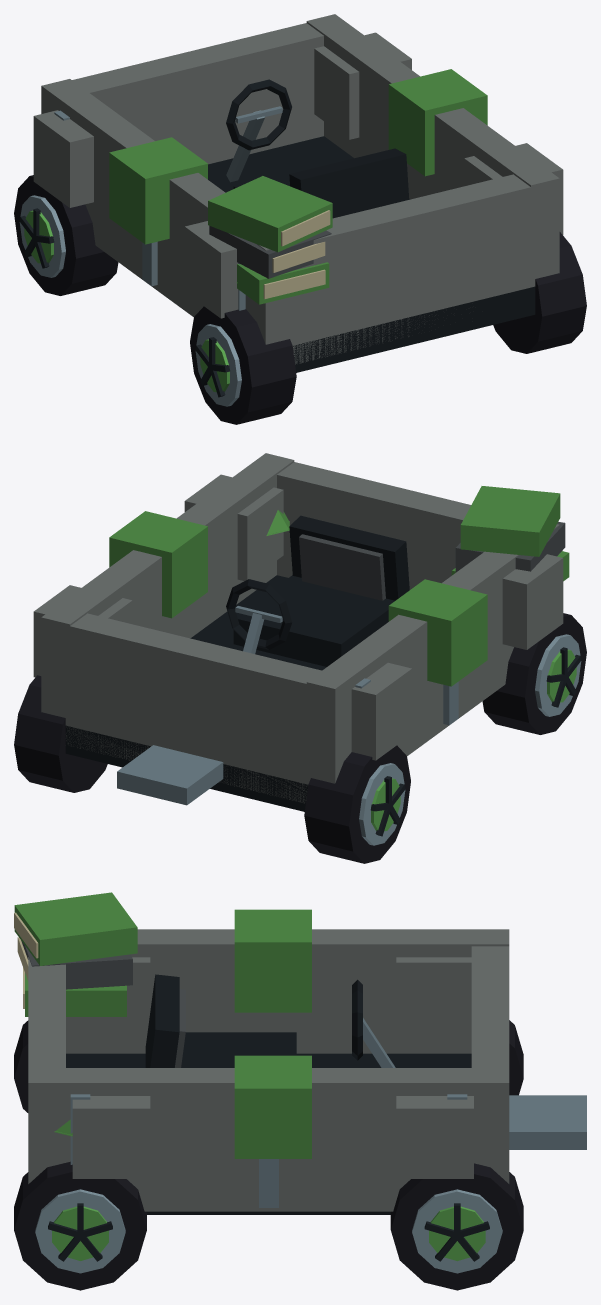
File: kart.glb
The picture shows the model from 3 angles, top to bottom: view 1: azimuth 30°, elevation 25°; view 2: azimuth 150°, elevation 25°; view 3: azimuth 270°, elevation 25°; orthographic projection. The views are drawn at different scales.
Visible parts, largest first — view 1: identity-minecart-minecart-riveted-open-bin, identity-minecart-motif-blocks, identity-minecart-motif-books, wheel-rear-left, identity-minecart-driver-cockpit, wheel-front-left, wheel-rear-right; view 2: identity-minecart-minecart-riveted-open-bin, identity-minecart-motif-blocks, identity-minecart-driver-cockpit, wheel-front-left, wheel-rear-left, identity-minecart-motif-books, wheel-front-right; view 3: identity-minecart-minecart-riveted-open-bin, identity-minecart-motif-blocks, wheel-rear-right, wheel-front-right, identity-minecart-motif-books, identity-minecart-driver-cockpit, wheel-rear-left, wheel-front-left.
Boxes of the visible parts, left/top/right/bottom form: identity-minecart-minecart-riveted-open-bin: left=41, top=14, right=559, bottom=372; identity-minecart-motif-blocks: left=33, top=32, right=563, bottom=318; identity-minecart-motif-books: left=208, top=176, right=332, bottom=304; wheel-rear-left: left=190, top=306, right=296, bottom=424; identity-minecart-driver-cockpit: left=226, top=79, right=409, bottom=218; wheel-front-left: left=14, top=175, right=118, bottom=295; wheel-rear-right: left=493, top=232, right=586, bottom=353; identity-minecart-minecart-riveted-open-bin: left=41, top=453, right=559, bottom=811; identity-minecart-motif-blocks: left=33, top=474, right=563, bottom=760; identity-minecart-driver-cockpit: left=226, top=515, right=409, bottom=666; wheel-front-left: left=304, top=745, right=410, bottom=863; wheel-rear-left: left=482, top=613, right=586, bottom=734; identity-minecart-motif-books: left=451, top=486, right=569, bottom=581; wheel-front-right: left=14, top=675, right=107, bottom=792; identity-minecart-minecart-riveted-open-bin: left=28, top=929, right=586, bottom=1214; identity-minecart-motif-blocks: left=72, top=909, right=473, bottom=1178; wheel-rear-right: left=14, top=1161, right=146, bottom=1290; wheel-front-right: left=390, top=1163, right=523, bottom=1290; identity-minecart-motif-books: left=14, top=892, right=137, bottom=1016; identity-minecart-driver-cockpit: left=145, top=974, right=395, bottom=1067; wheel-rear-left: left=14, top=1020, right=28, bottom=1112; wheel-front-left: left=509, top=1020, right=523, bottom=1095.
Bounding box in the file's own units: 1.99 × 1.12 × 2.58.
